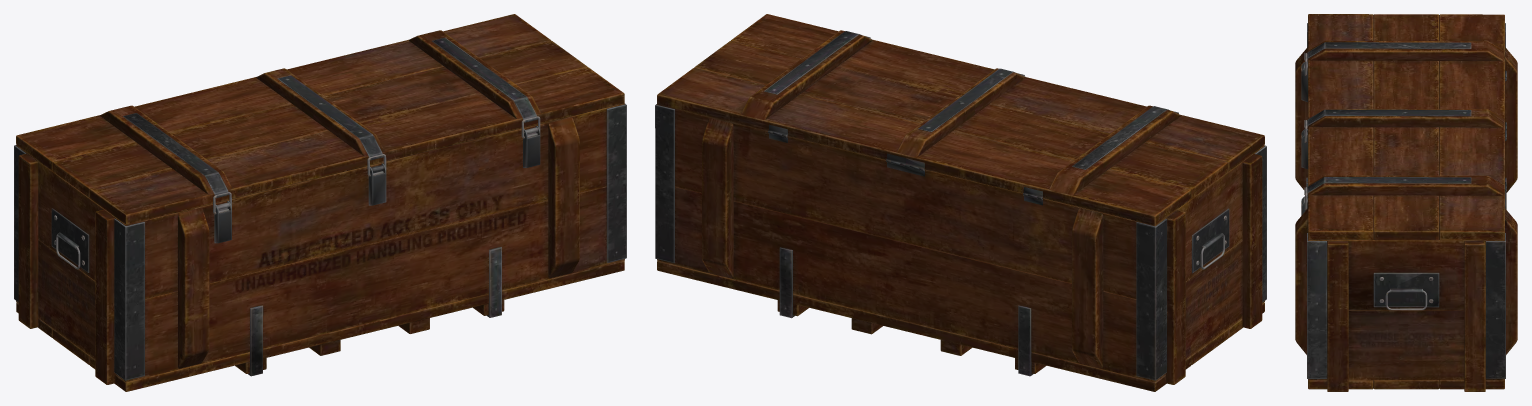
File: wooden_military_crate.glb
3 views of the same model, side by side, from view 1: azimuth 30°, elevation 25°; view 2: azimuth 150°, elevation 25°; view 3: azimuth 270°, elevation 25° (orthographic). The views are drawn at different scales.
Visible parts, largest first — view 1: wooden_military_crate; view 2: wooden_military_crate; view 3: wooden_military_crate.
Part boxes in pixels (x1=…): wooden_military_crate: x1=14, y1=14, x2=626, y2=391; wooden_military_crate: x1=655, y1=14, x2=1266, y2=391; wooden_military_crate: x1=1295, y1=14, x2=1517, y2=391.
Size of the model in its own units: 1.24 by 0.4648 by 0.5198.
Materials: 1 (1 with a texture image).
